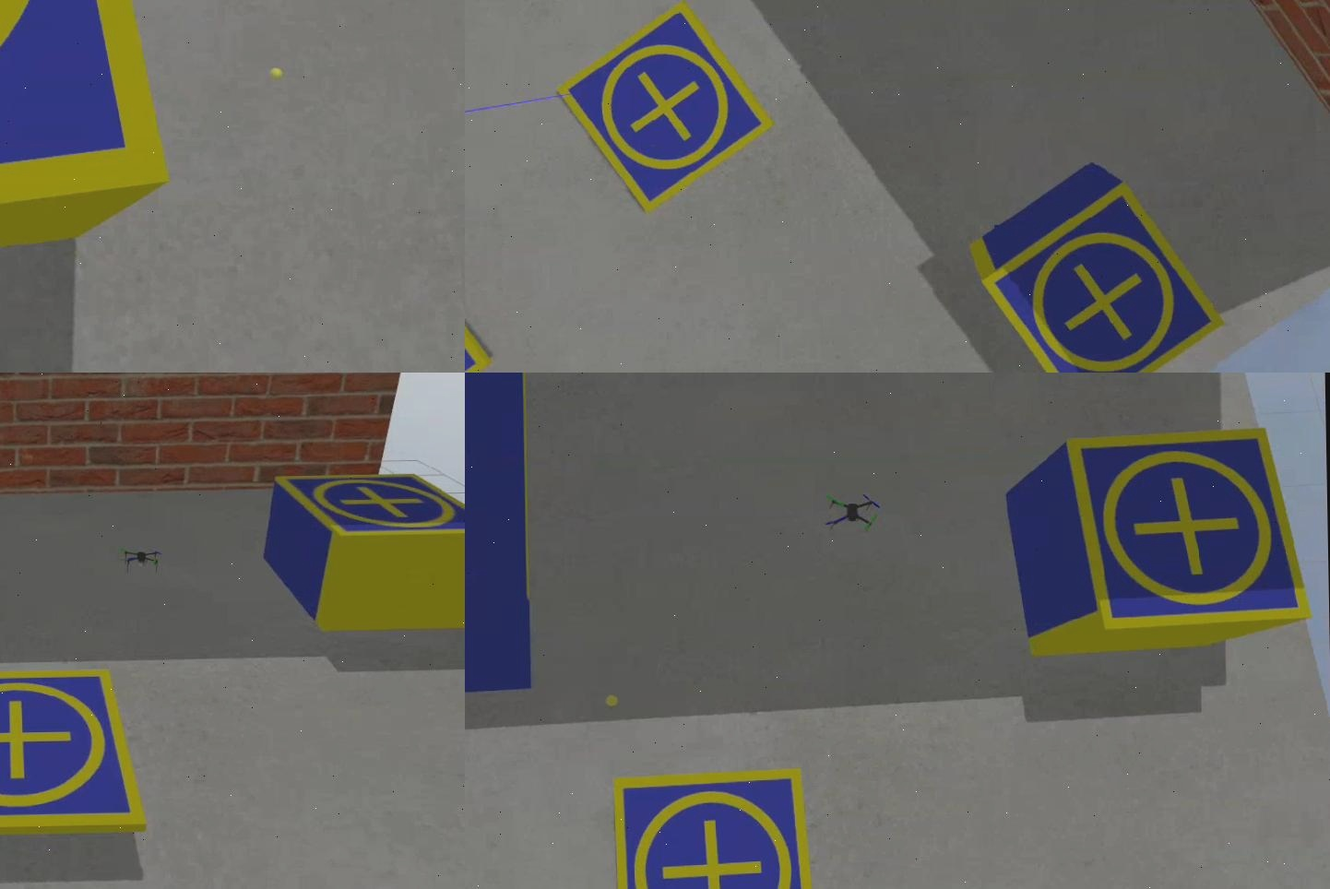small_base: (1065, 428, 1313, 634), (1, 1, 172, 286), (982, 177, 1226, 373), (555, 1, 772, 219), (1, 667, 149, 838), (614, 767, 818, 889), (269, 469, 465, 550), (465, 229, 498, 373)
